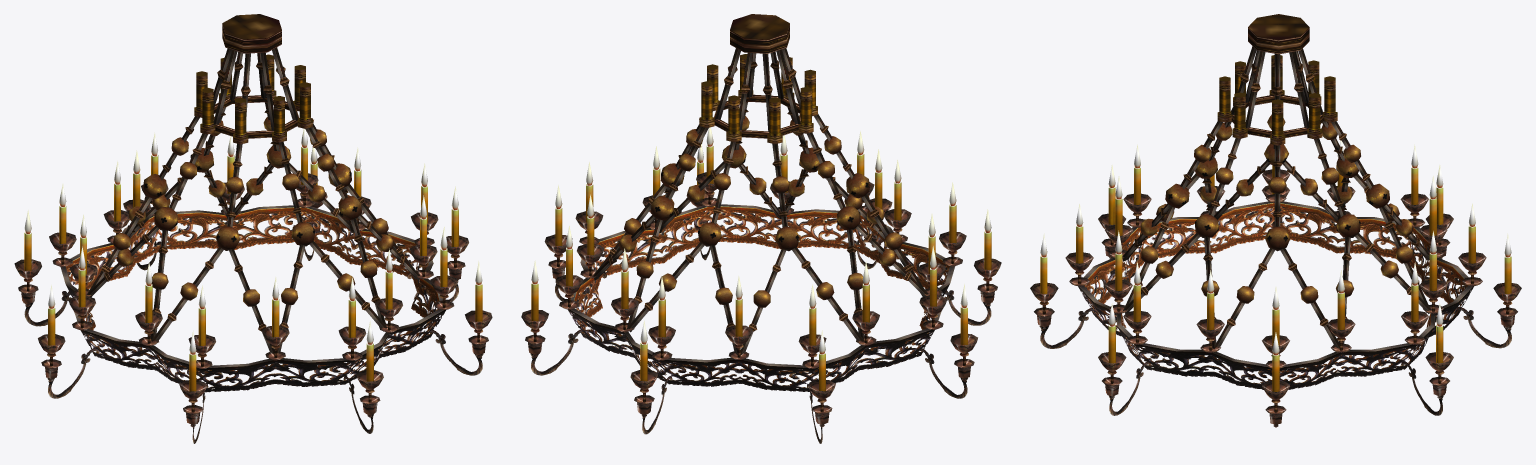
The model's file is furni_0200937.FBX.
3 renders of one model, left to right at view 1: azimuth 30°, elevation 25°; view 2: azimuth 150°, elevation 25°; view 3: azimuth 270°, elevation 25°, orthographic.
Visible parts, largest first — view 1: furni_0200937; view 2: furni_0200937; view 3: furni_0200937.
Part boxes in pixels (x1,y1,x2,y2): furni_0200937: (14, 14, 492, 443); furni_0200937: (521, 14, 1001, 443); furni_0200937: (1030, 14, 1521, 427).
Bounding box in the file's own units: 605 × 444 × 605.
Materials: 1 (1 with a texture image).
